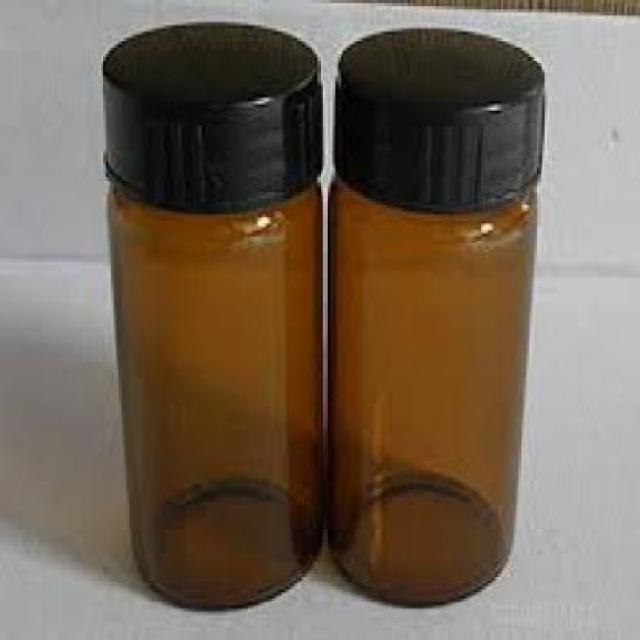kaca: (103, 180, 323, 605), (325, 177, 537, 601)
